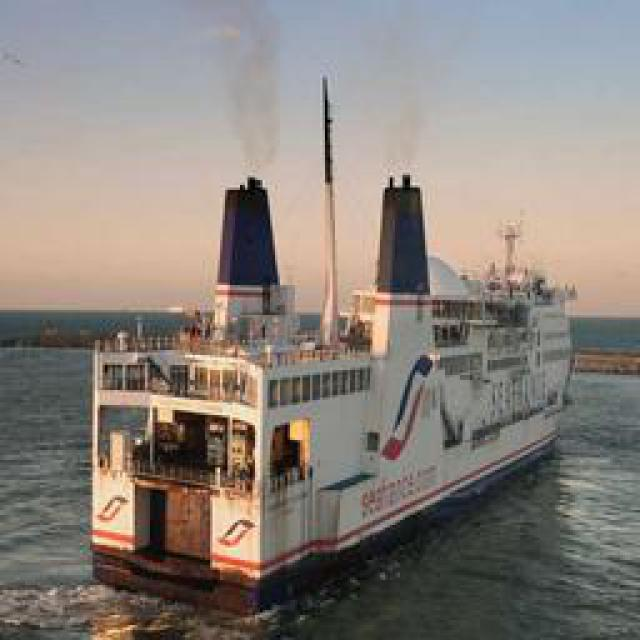Ship: (70, 75, 578, 615)
